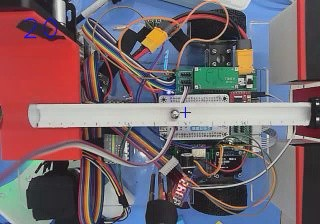ironball: (169, 109, 179, 119)
